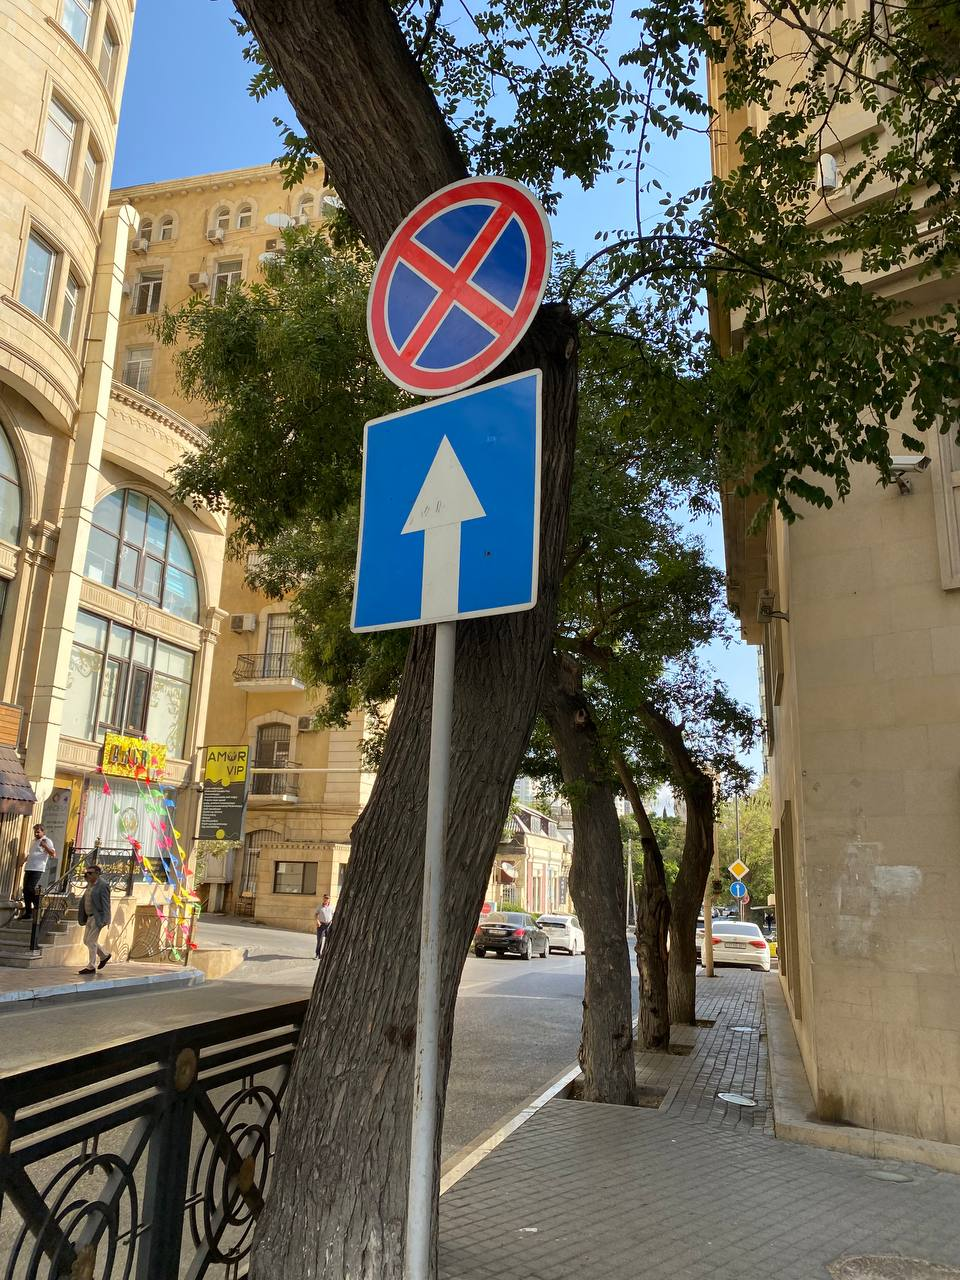No Parking: (366, 174, 553, 397)
